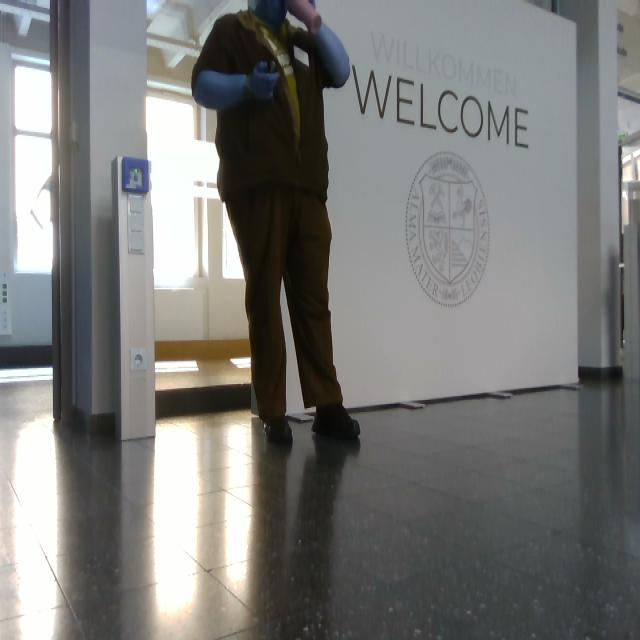door: (116, 156, 157, 441)
light bulb: (30, 175, 52, 231), (230, 356, 252, 369)
person: (191, 1, 362, 445)
pillar: (53, 1, 157, 441)
tiled floor: (2, 373, 639, 638)
